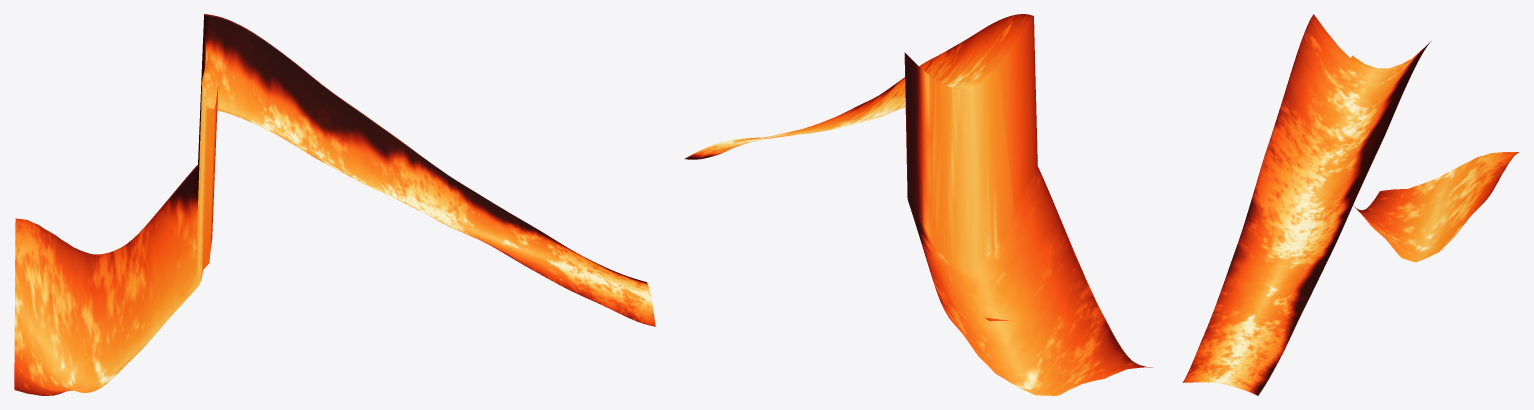
The model's file is flow_0_0.glb.
3 renders of one model, left to right at view 1: azimuth 30°, elevation 25°; view 2: azimuth 150°, elevation 25°; view 3: azimuth 270°, elevation 25°, orthographic. The views are drawn at different scales.
Size of the model in its own units: 15.81 by 9.01 by 9.98.
